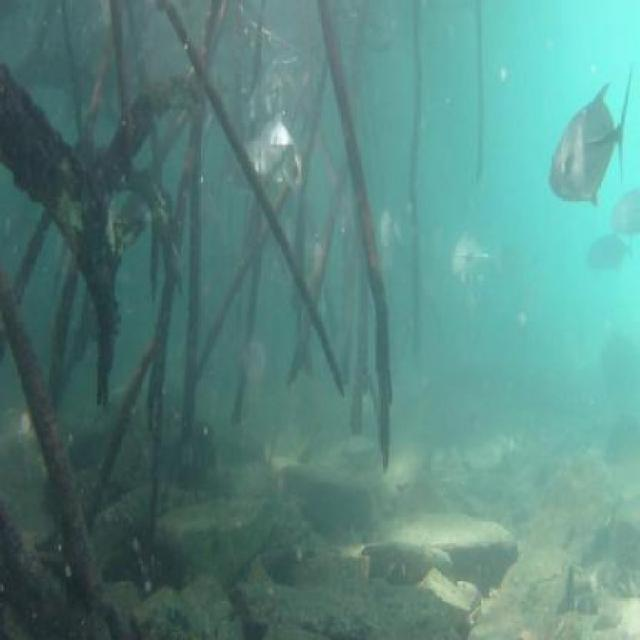Caranx_sexfasciatus_juvenile: (546, 58, 628, 210), (444, 224, 504, 299), (250, 55, 301, 131), (253, 110, 295, 181), (584, 234, 636, 289), (232, 136, 294, 182), (372, 204, 402, 273), (606, 188, 639, 232)
